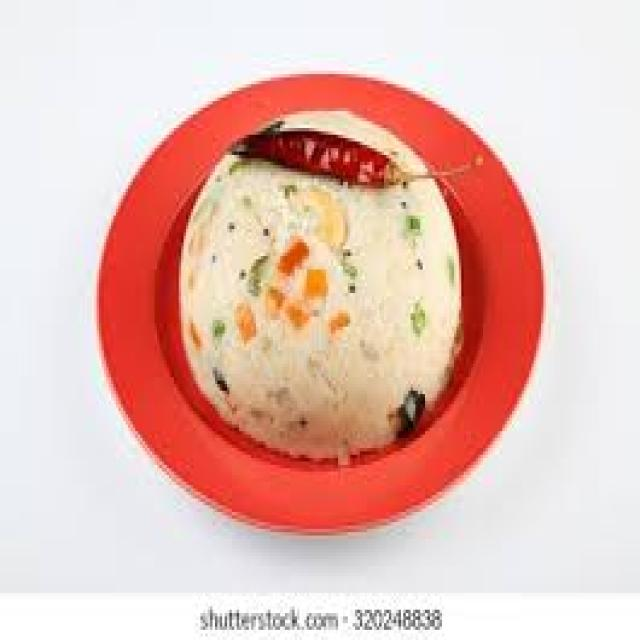UPMA: (181, 145, 456, 455)
